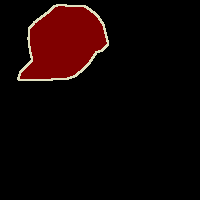hat: (18, 4, 108, 80)
